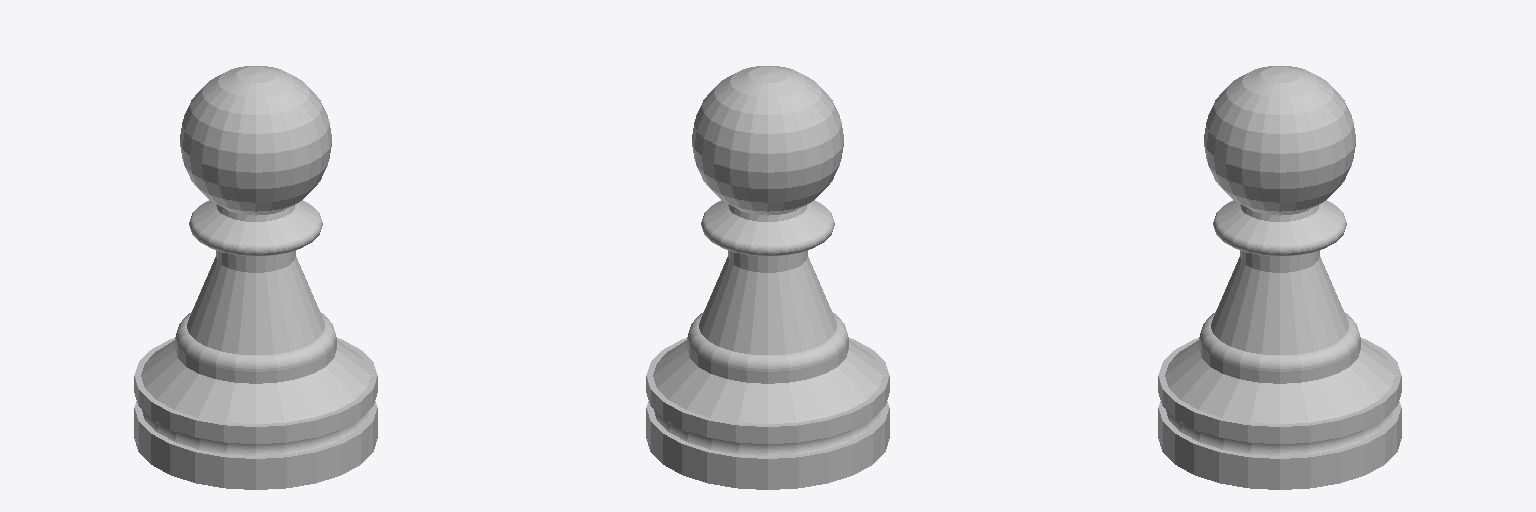
Rendered from peao.obj.
The picture shows the model from 3 angles: view 1: azimuth 30°, elevation 25°; view 2: azimuth 150°, elevation 25°; view 3: azimuth 270°, elevation 25°; orthographic projection.
Visible parts, largest first — view 1: object_1; view 2: object_1; view 3: object_1.
Part boxes in pixels (x1,y1,x2,y2): object_1: (134, 66, 377, 489); object_1: (646, 66, 889, 489); object_1: (1158, 66, 1401, 489).
Bounding box in the file's own units: 0.0441 × 0.0731 × 0.0441.